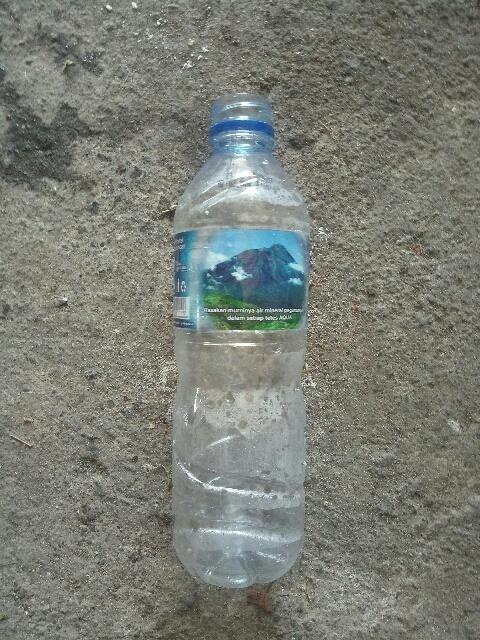bottle-plastic: (168, 93, 310, 587)
